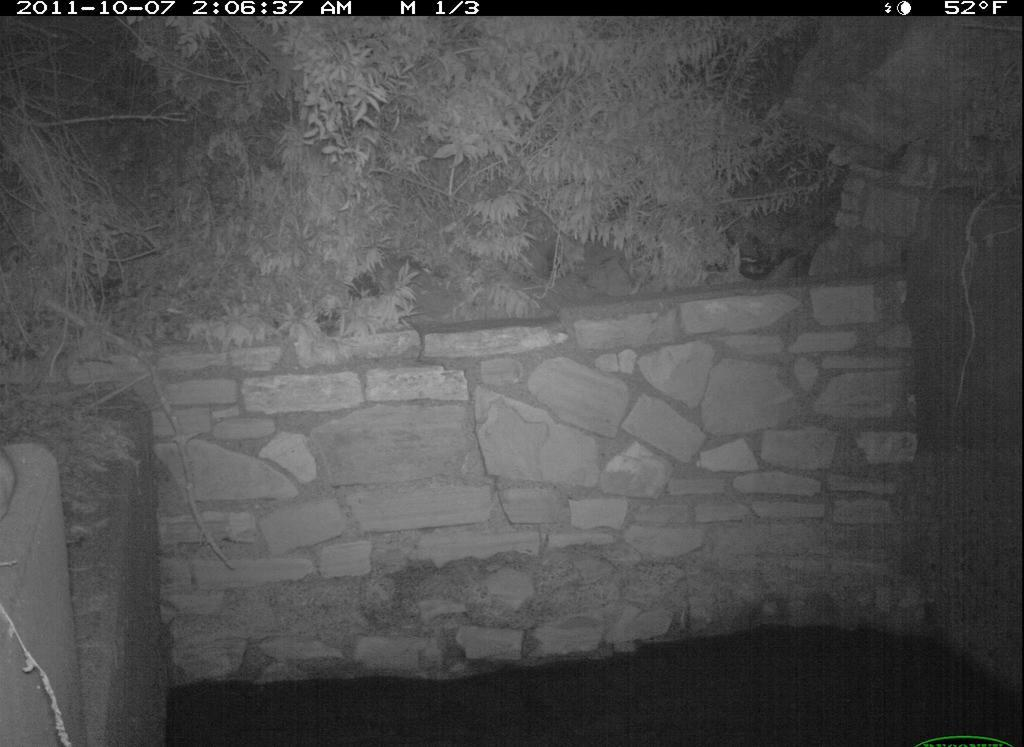rodent: (1, 449, 27, 526)
